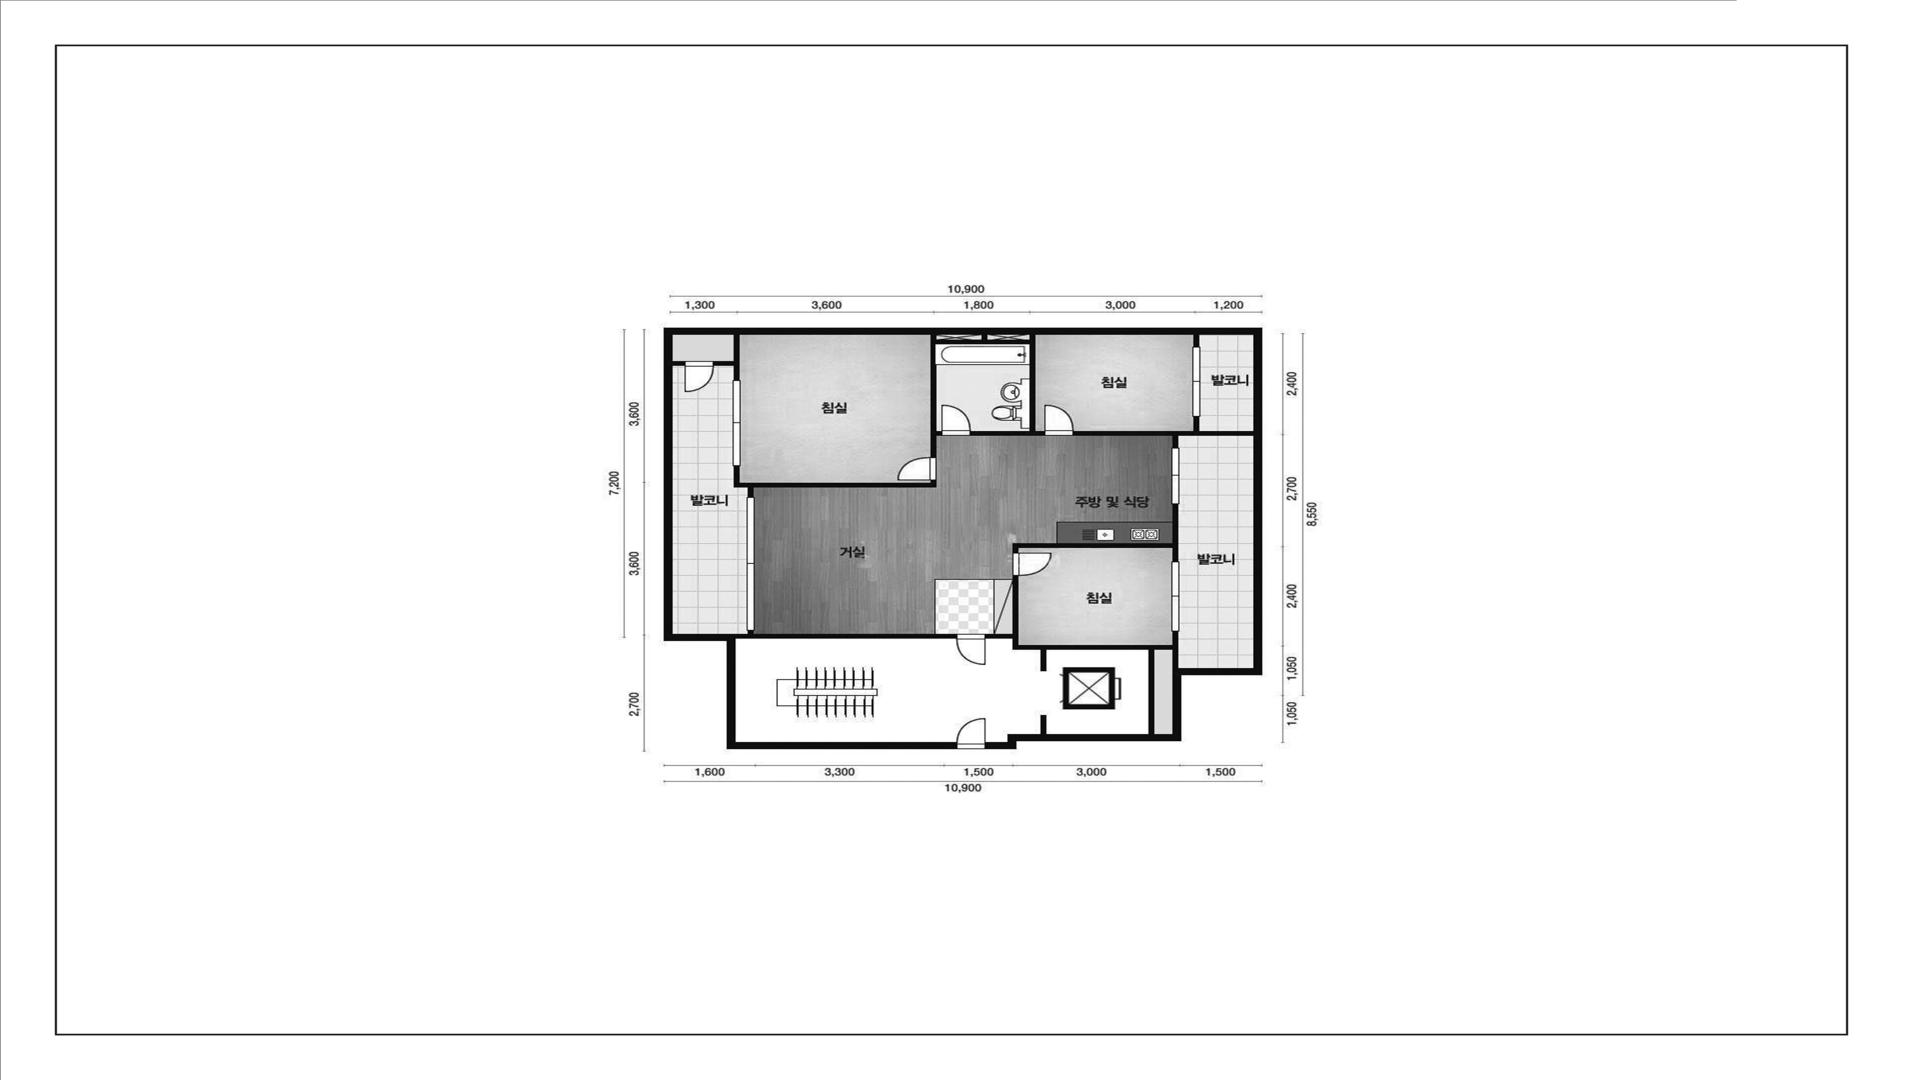background: (0, 0, 1920, 1080)
door: (683, 361, 715, 393), (956, 717, 986, 749), (940, 405, 972, 435), (898, 456, 936, 481), (1013, 553, 1052, 576), (1044, 405, 1075, 435), (956, 634, 986, 665)
wall: (663, 328, 1262, 749), (986, 576, 1179, 735), (931, 335, 1043, 456), (1013, 505, 1179, 562), (733, 467, 936, 497), (1075, 417, 1254, 447), (736, 632, 956, 638), (715, 335, 740, 380), (1040, 715, 1047, 735), (1193, 335, 1199, 347), (673, 361, 684, 365)
window: (746, 497, 754, 630), (733, 380, 741, 467), (1192, 347, 1200, 417), (1171, 562, 1179, 632), (1171, 447, 1179, 505)
